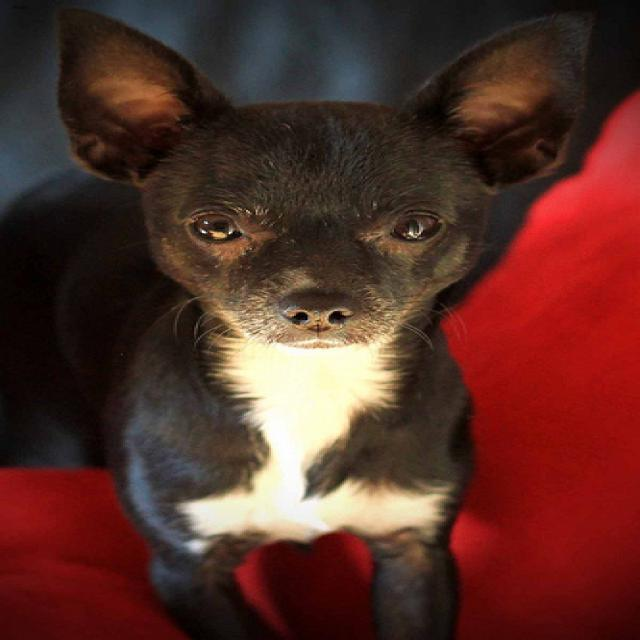dog-chihuahua: (2, 1, 615, 637)
